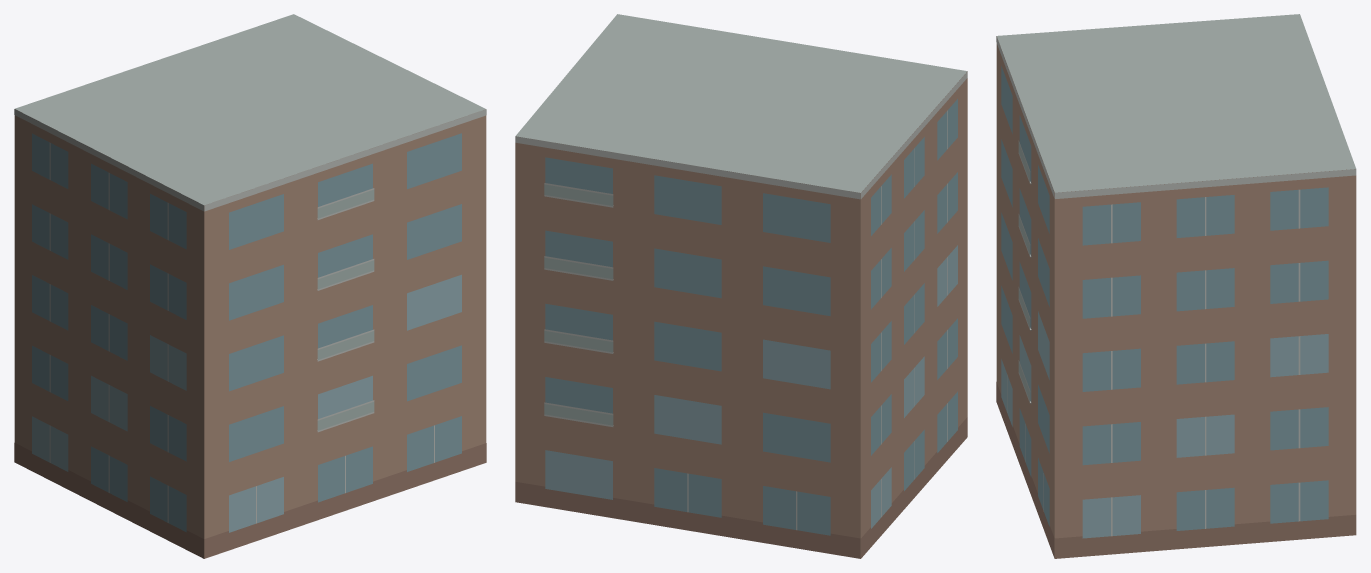
The model's file is survey-upis-32575908.glb.
The picture shows the model from 3 angles, left to right: view 1: azimuth 30°, elevation 25°; view 2: azimuth 150°, elevation 25°; view 3: azimuth 270°, elevation 25°; orthographic projection. The views are drawn at different scales.
Visible parts, largest first — view 1: survey-upis-32575908.tmp; view 2: survey-upis-32575908.tmp; view 3: survey-upis-32575908.tmp.
Part boxes in pixels (x1,y1,x2,y2): survey-upis-32575908.tmp: [14, 14, 486, 558]; survey-upis-32575908.tmp: [515, 14, 967, 558]; survey-upis-32575908.tmp: [996, 14, 1356, 558].
Size of the model in its own units: 14.45 by 13.8 by 12.3.
